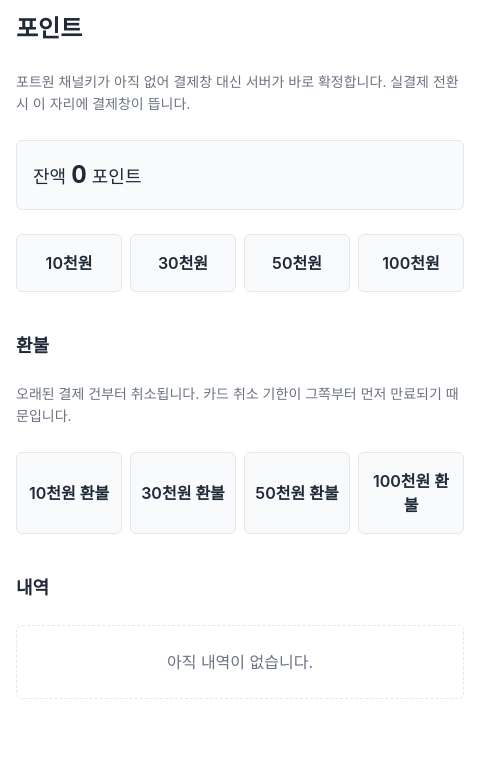
it: 포인트 화면 — 환불 (#29) › should show the server message when the points were already spent
This screenshot has width=481, height=779.
Click the button "10천원 환불" at (69, 493), box [16,452,122,534]
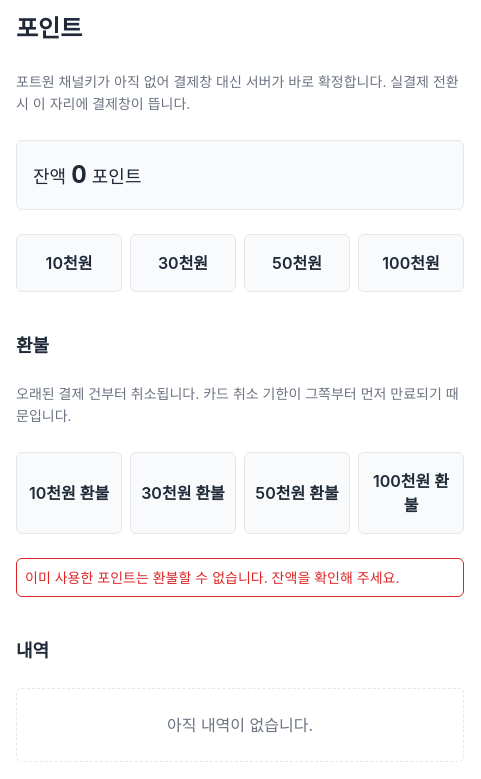
Now the message shows "이미 사용한 포인트는 환불할 수 없습니다", box [25,569,400,586]
